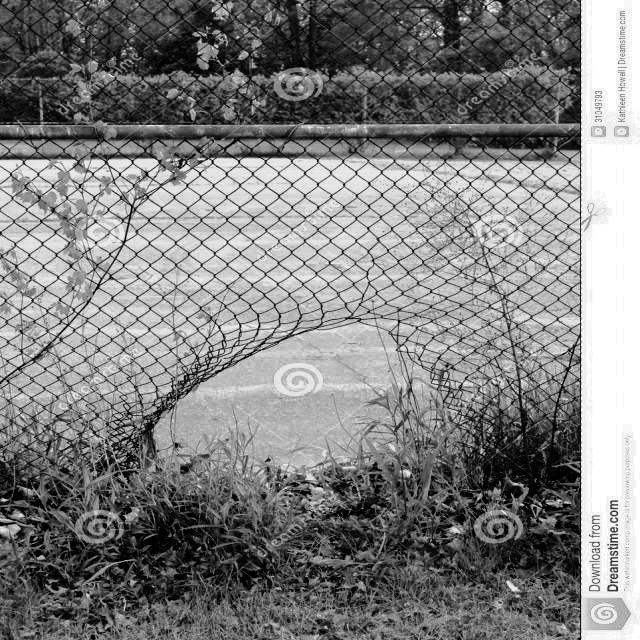fences: (111, 271, 554, 478)
